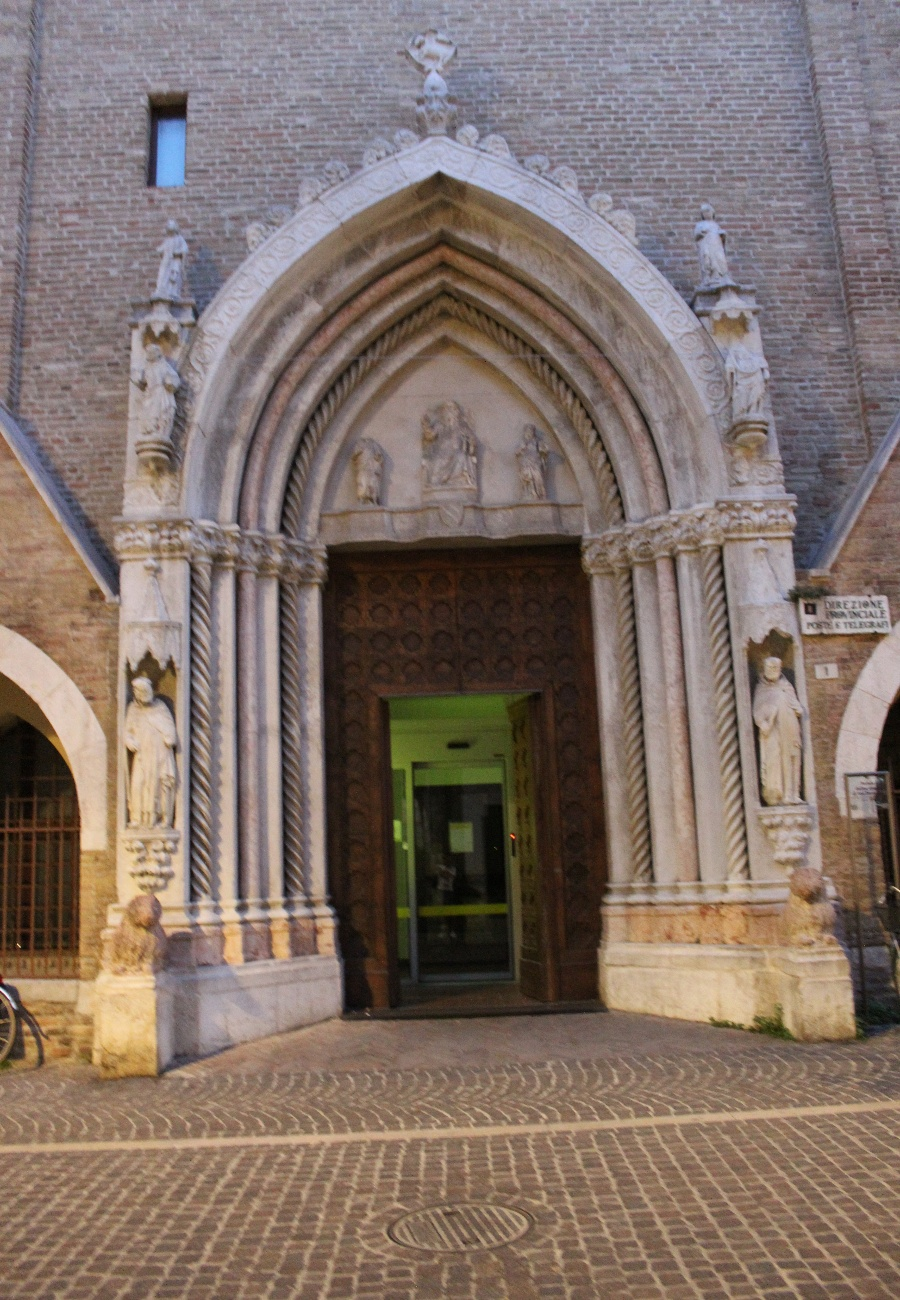Portale San Domenico: (96, 36, 822, 1057)
